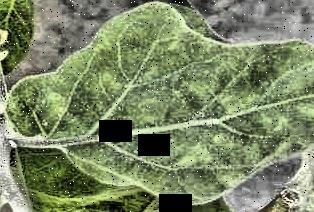HEALTHY: (0, 1, 314, 212)
